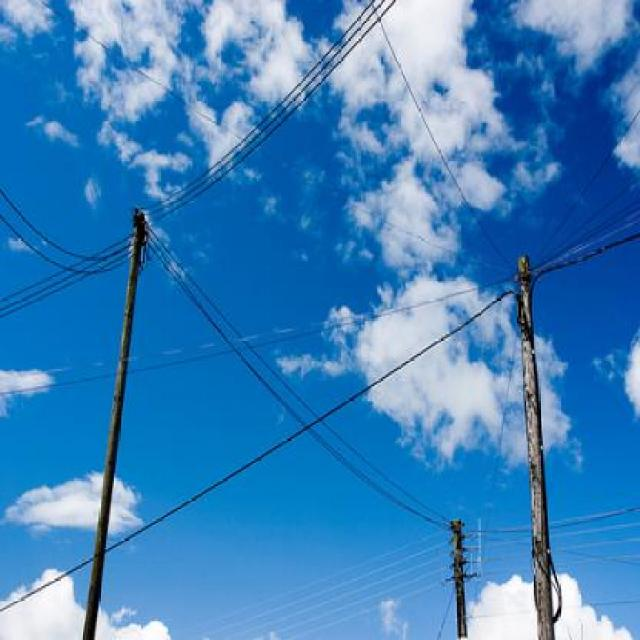pole: (73, 210, 158, 632), (511, 246, 549, 640), (441, 509, 472, 640)
